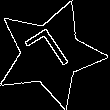L_SE: (22, 24, 78, 84)
